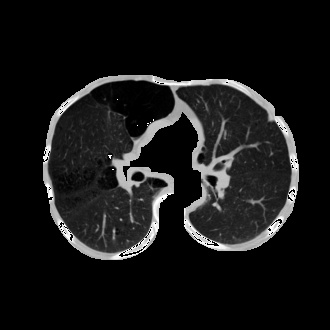PN: (267, 116, 273, 122)
